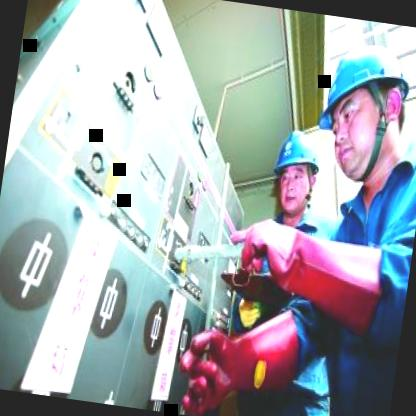helmet: (307, 33, 416, 190), (262, 121, 328, 228)
